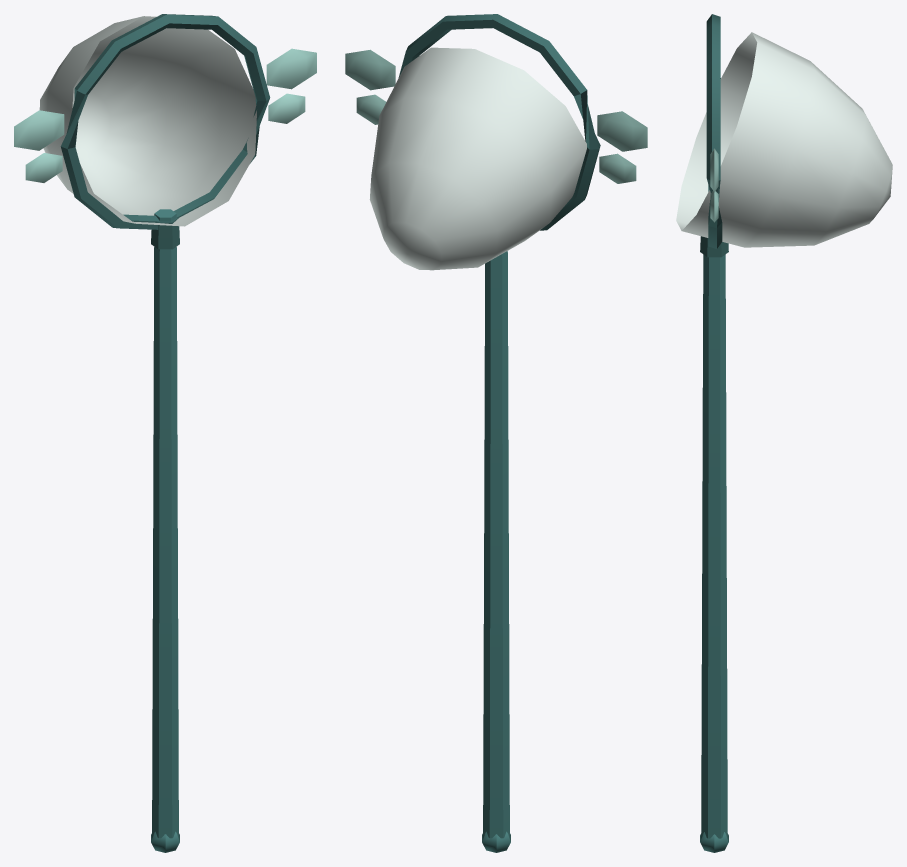
Rendered from net-4.glb.
3 renders of one model, left to right at view 1: azimuth 30°, elevation 25°; view 2: azimuth 150°, elevation 25°; view 3: azimuth 270°, elevation 25°, orthographic.
Visible parts, largest first — view 1: net-4; view 2: net-4; view 3: net-4.
Part boxes in pixels (x1=…): net-4: x1=14, y1=14, x2=316, y2=852; net-4: x1=345, y1=14, x2=647, y2=852; net-4: x1=676, y1=14, x2=892, y2=852.
Size of the model in its own units: 0.312 by 0.8247 by 0.1958.
